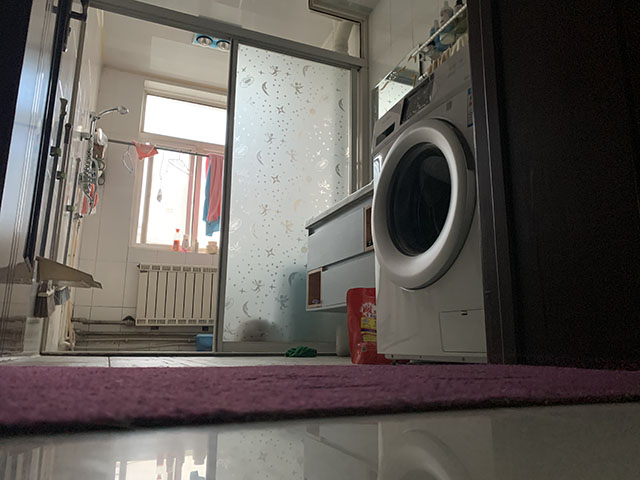carpet: (1, 362, 640, 441)
